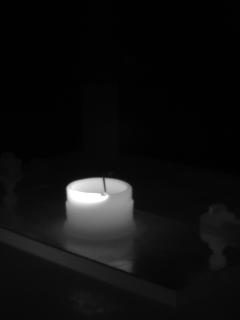tip_wire_left: (85, 166, 106, 195)
tip_wire_right: (104, 166, 117, 195)
